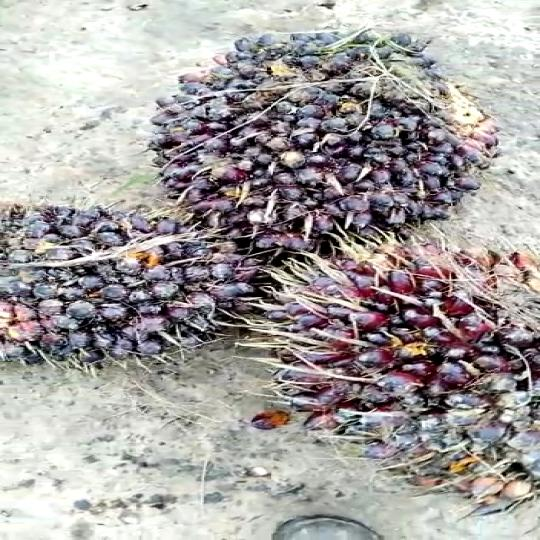kurang masak: (229, 229, 540, 512), (154, 29, 473, 228), (0, 171, 250, 394)
